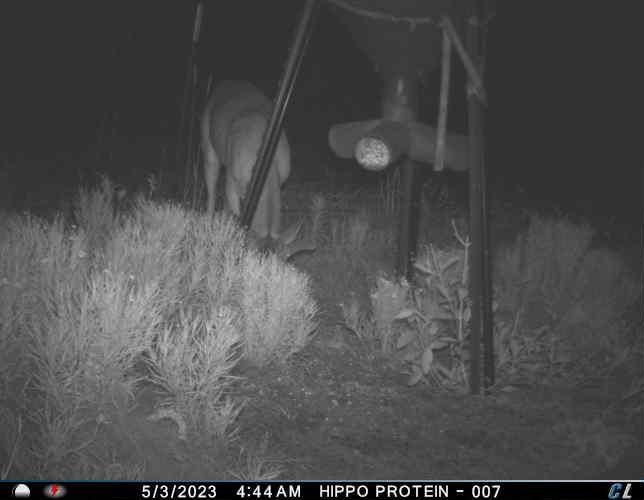Deer: (200, 74, 316, 268)
